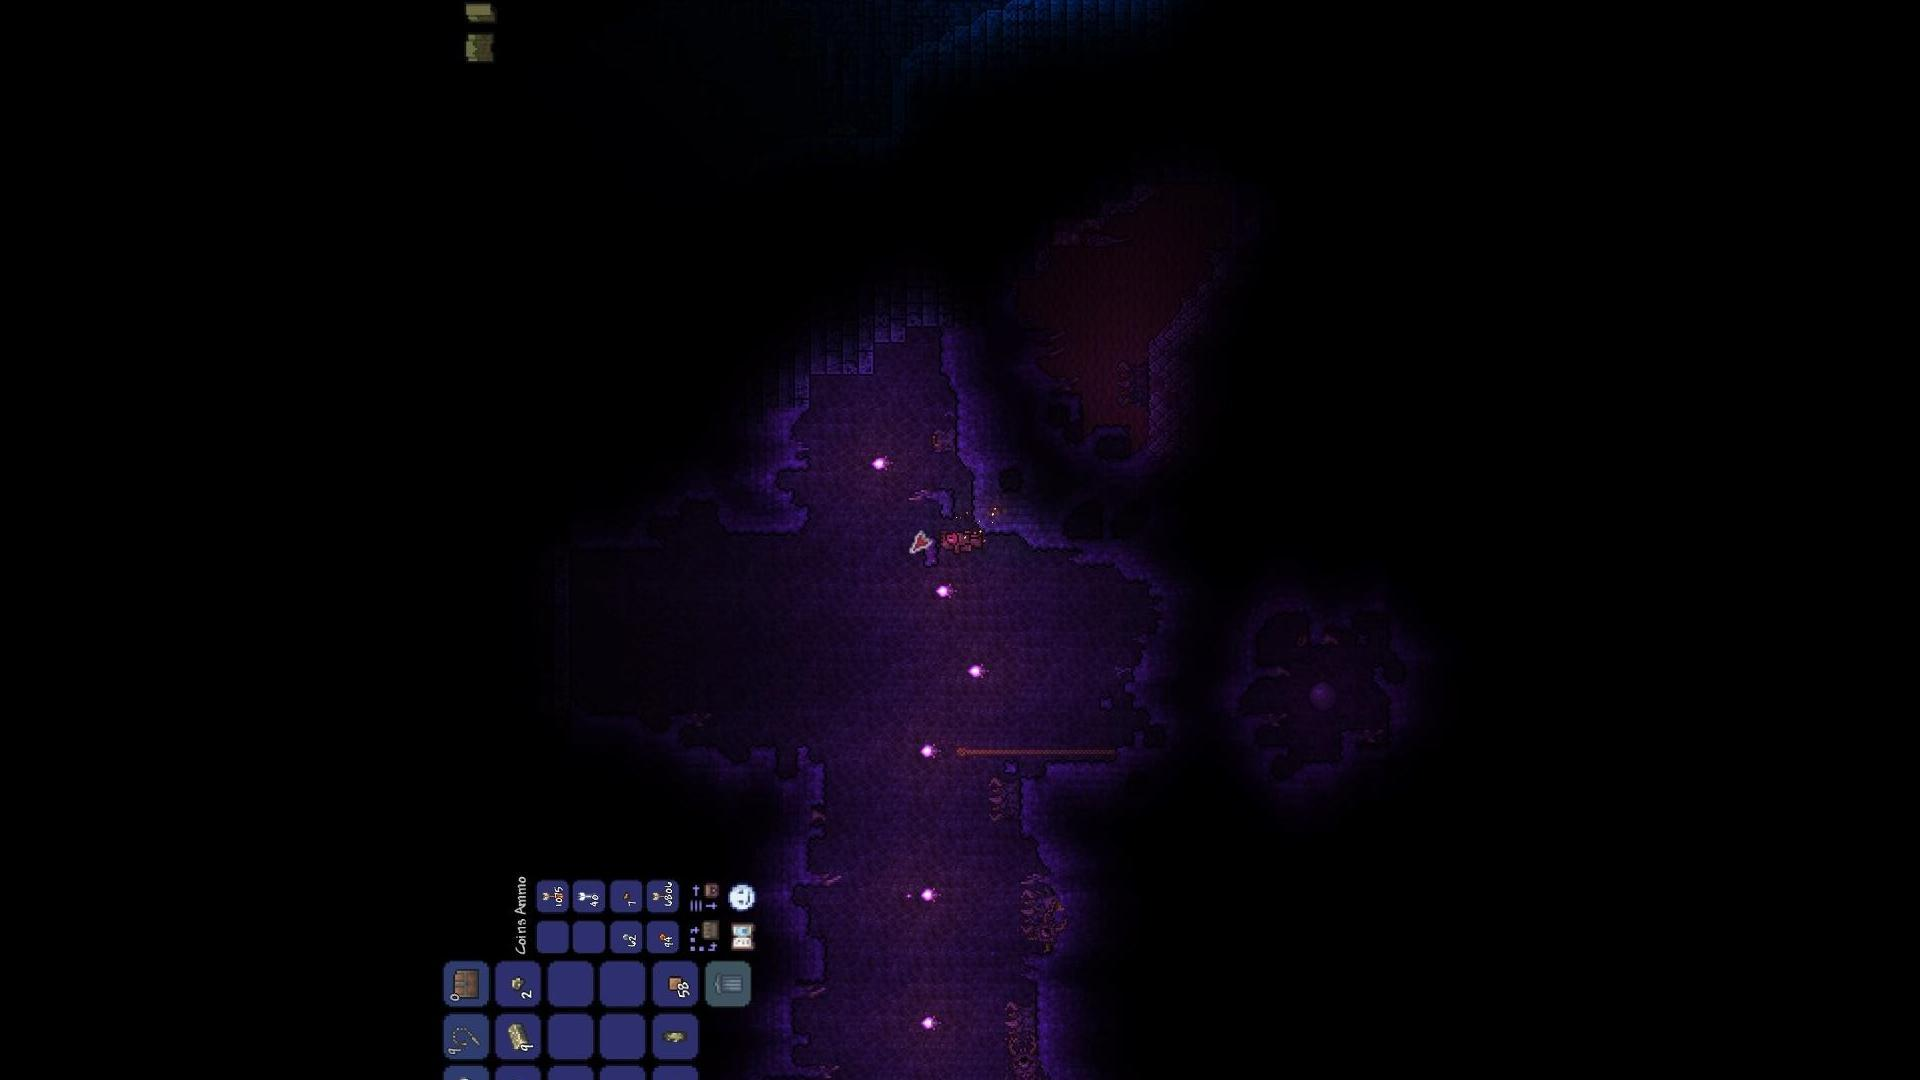chest: (451, 968, 481, 1004)
